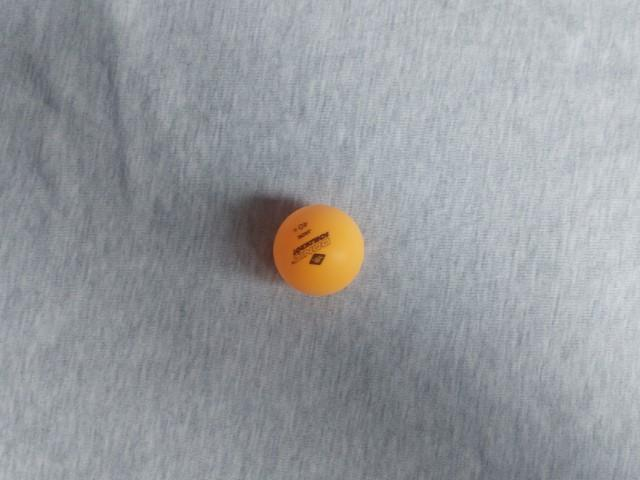oball: (265, 201, 370, 303)
